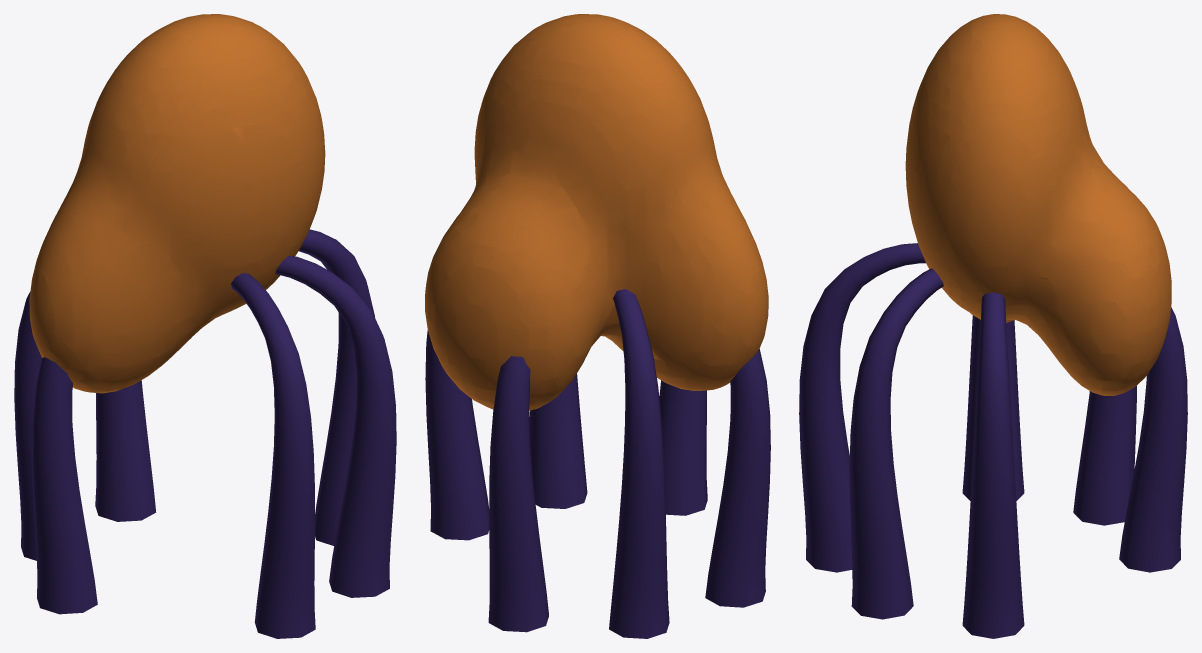
File: Tree Blob 1.glb
3 views of the same model, side by side, from view 1: azimuth 30°, elevation 25°; view 2: azimuth 150°, elevation 25°; view 3: azimuth 270°, elevation 25° (orthographic).
Parts seen in each view (by area): view 1: Tree_Blob_1; view 2: Tree_Blob_1; view 3: Tree_Blob_1.
Boxes of the visible parts, x1=… form: Tree_Blob_1: x1=14, y1=14, x2=396, y2=638; Tree_Blob_1: x1=425, y1=14, x2=770, y2=638; Tree_Blob_1: x1=799, y1=14, x2=1187, y2=638.
Size of the model in its own units: 3.86 by 5.88 by 3.86.
1 material, 1 textured.
